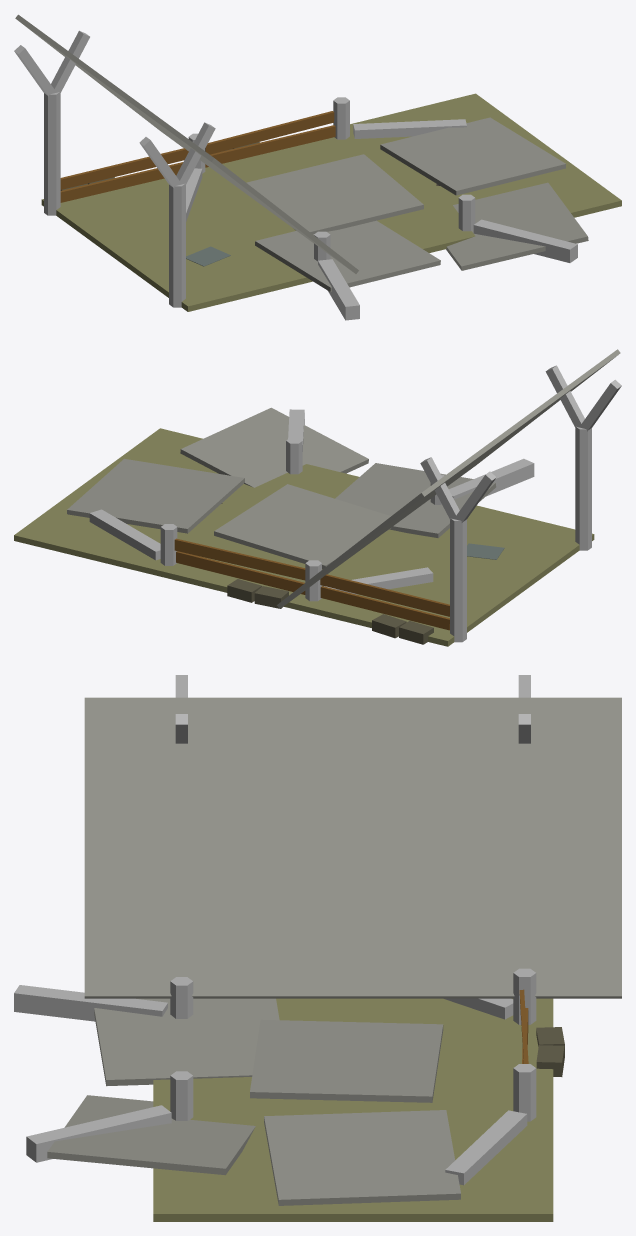
The model's file is SM_MarquesinaBus_v2_Barricada_e2_MuyDanado_LOD1.fbx.
3 views of the same model, one above another, from view 1: azimuth 30°, elevation 25°; view 2: azimuth 150°, elevation 25°; view 3: azimuth 270°, elevation 25° (orthographic). The views are drawn at different scales.
Parts seen in each view (by area): view 1: SM_marquesina_bus_v10_LOD1; view 2: SM_marquesina_bus_v10_LOD1; view 3: SM_marquesina_bus_v10_LOD1.
Boxes of the visible parts, <box> form: SM_marquesina_bus_v10_LOD1: <box>14,14,621,320</box>; SM_marquesina_bus_v10_LOD1: <box>14,349,621,646</box>; SM_marquesina_bus_v10_LOD1: <box>14,675,621,1221</box>.
Bounding box in the file's own units: 12.99 × 4.63 × 10.63.
